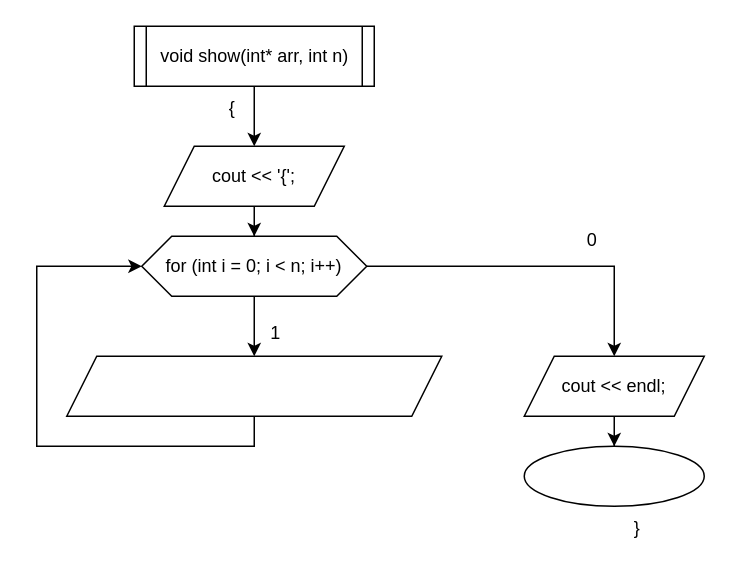
Image size: 731x578. Some labels were removed from this diagram. The centre of each missing label's shape, as x and y in pixels:
cout << arr[i] << ((i == n - 1) ? "}\n" : ", ");: [253,385]
return;: [613,475]
